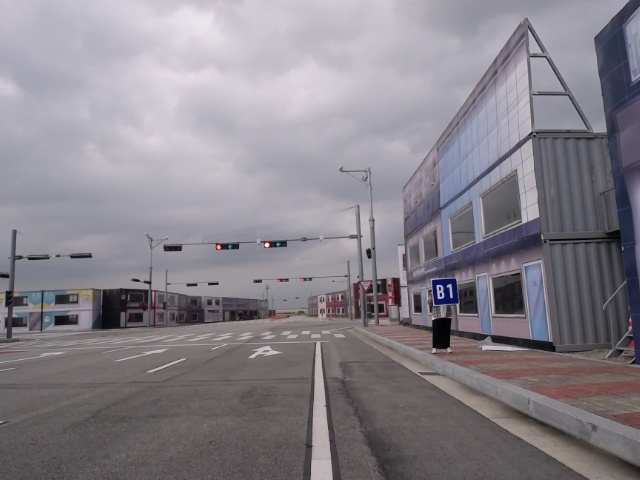delivery_b1: (431, 278, 459, 306)
left_green_4: (264, 240, 287, 248), (216, 243, 239, 250), (277, 278, 288, 283), (300, 278, 312, 281)
